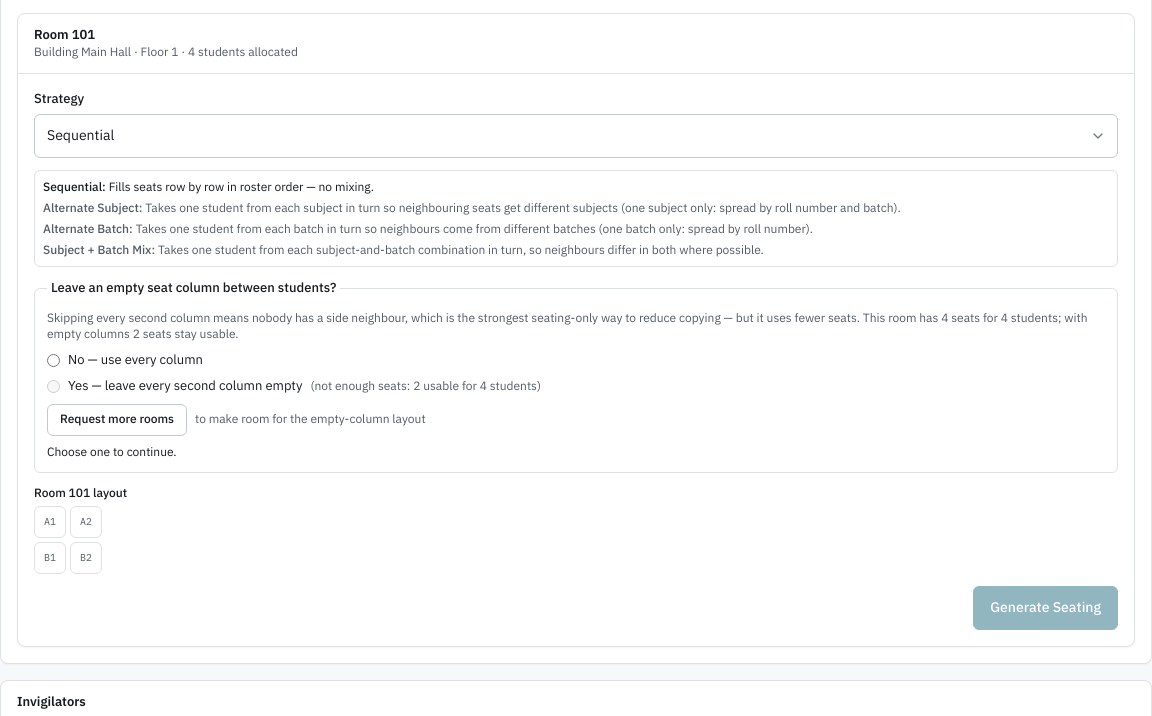
Scenario: Seating finalization › shows the fresh-hard-violations 409 distinctly from the wrong-status case
(page scrolled)
Click the radio button labelled "No — use every column": (54, 360) [47,354,60,367]
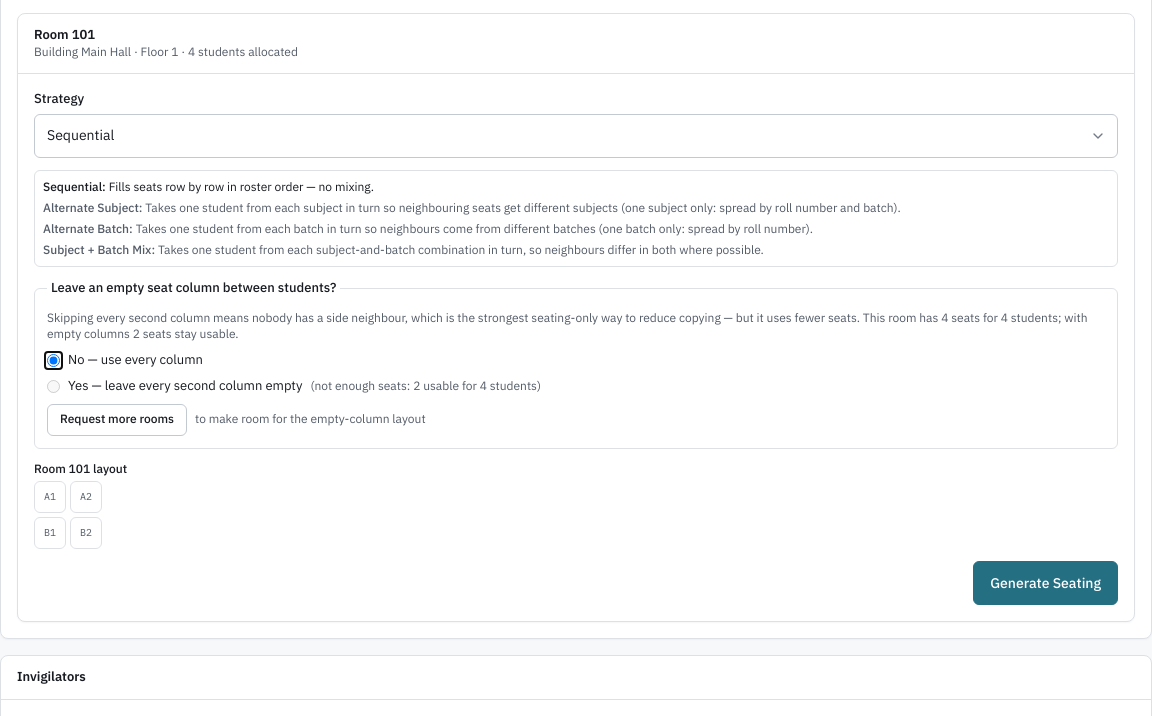
Click the button "Generate Seating": (1046, 583) [973,561,1118,605]
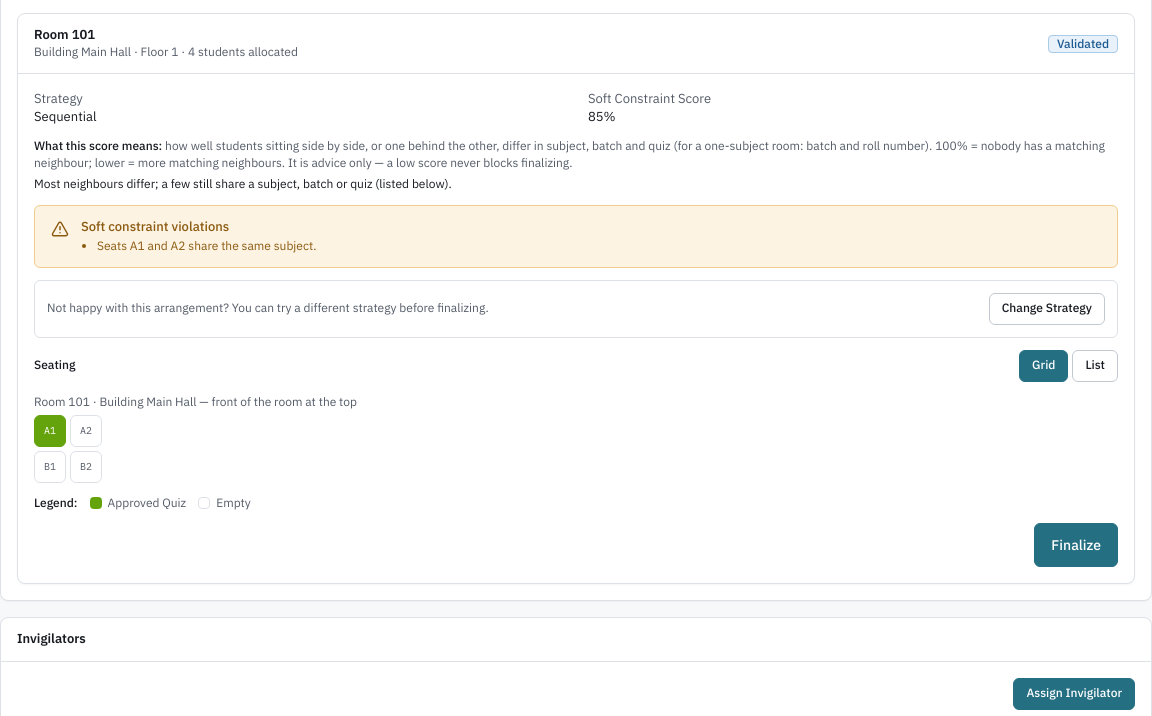
Result: the text "Validated" is shown at [1048,34,1118,52]
Click the button "Finalize": (1076, 545) [1034,523,1118,567]
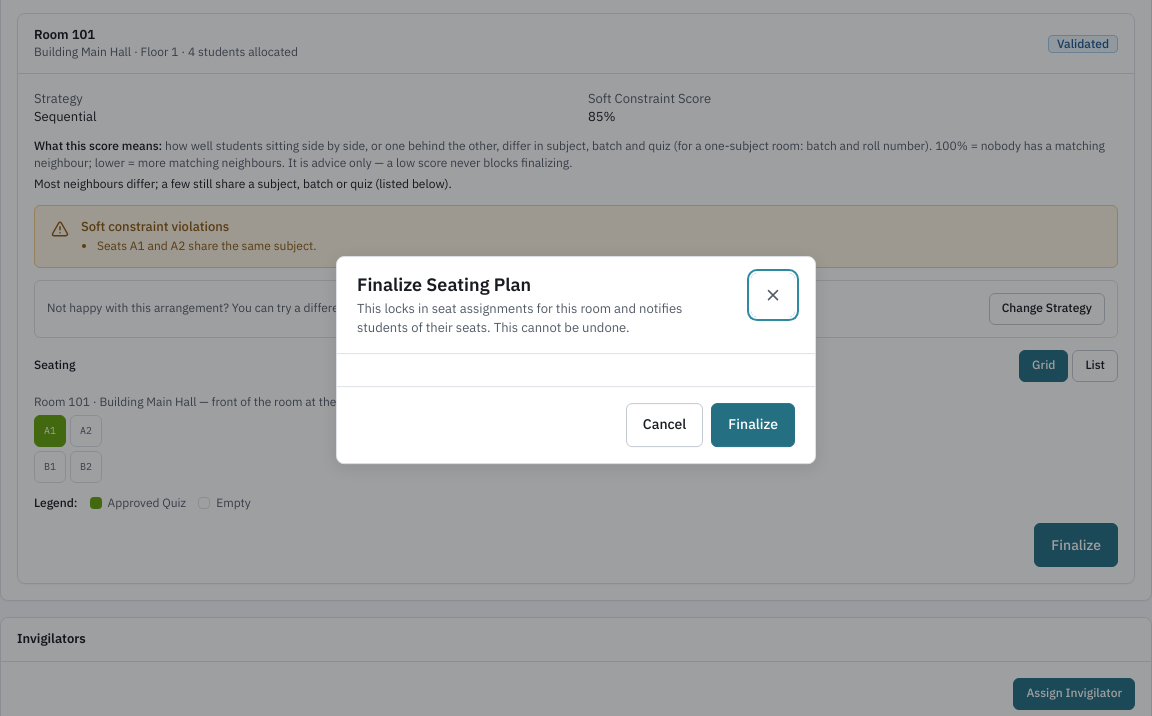
Click the button "Finalize": (753, 425) [711,403,795,447]
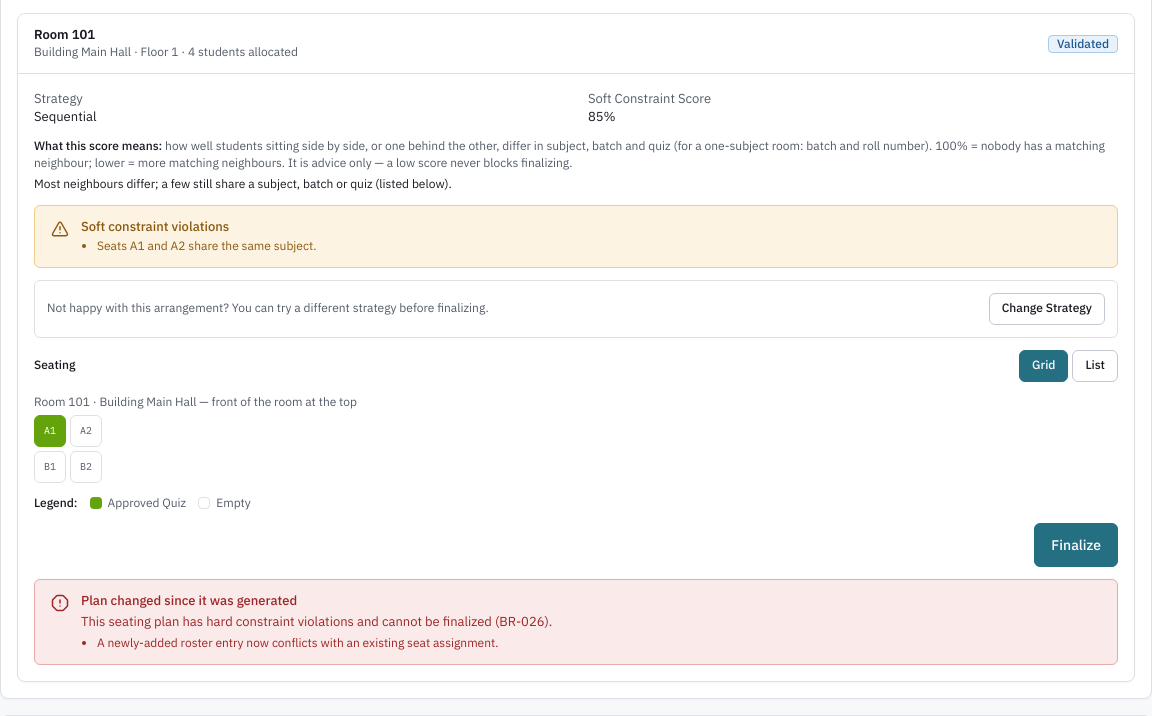
Result: the text "hard constraint violations and cannot be finalized (BR-026)" is shown at [81,613,552,630]
Result: the list item "newly-added roster entry now conflicts" is shown at [97,635,498,650]
